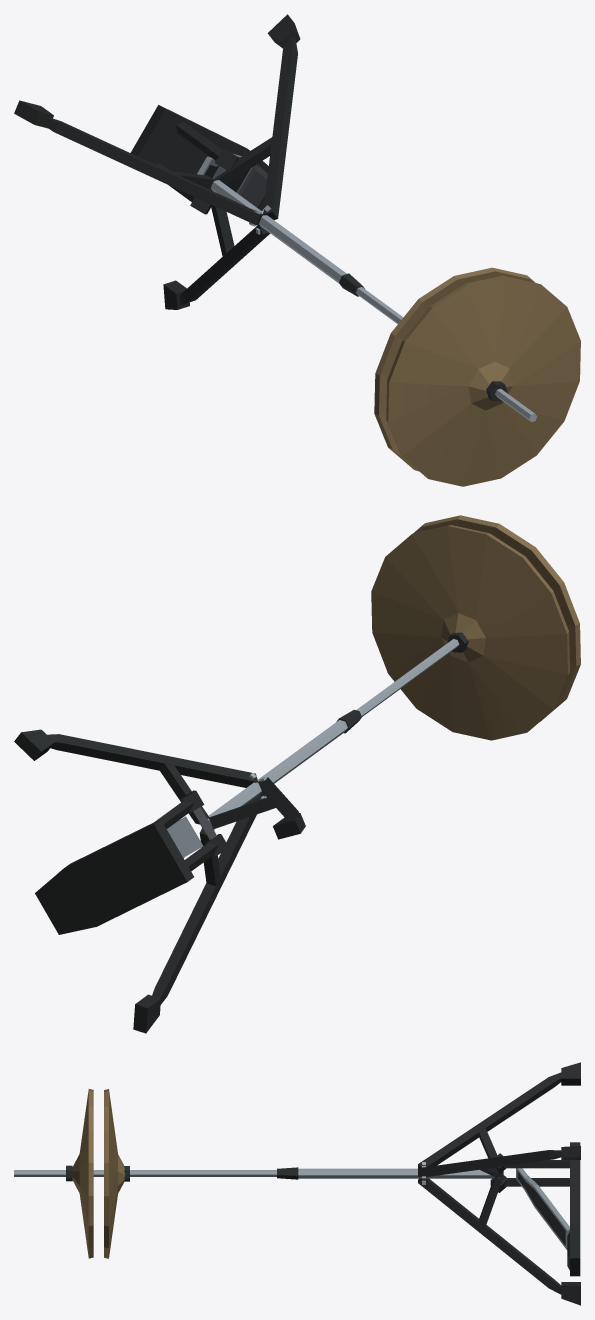
File: SM_Prop_Music_Drums_Kit_01_Seat_01_Part_01.006.obj
3 views of the same model, one above another, from view 1: azimuth 30°, elevation 25°; view 2: azimuth 150°, elevation 25°; view 3: azimuth 270°, elevation 25° (orthographic). The views are drawn at different scales.
Parts seen in each view (by area): view 1: SM_Prop_Music_Drums_Kit_01_Seat_01_Part_01.006_0; view 2: SM_Prop_Music_Drums_Kit_01_Seat_01_Part_01.006_0; view 3: SM_Prop_Music_Drums_Kit_01_Seat_01_Part_01.006_0.
Part boxes in pixels (x1=…): SM_Prop_Music_Drums_Kit_01_Seat_01_Part_01.006_0: x1=14, y1=14, x2=580, y2=486; SM_Prop_Music_Drums_Kit_01_Seat_01_Part_01.006_0: x1=14, y1=515, x2=580, y2=1033; SM_Prop_Music_Drums_Kit_01_Seat_01_Part_01.006_0: x1=14, y1=1062, x2=580, y2=1305.
Bounding box in the file's own units: 57.38 × 52.18 × 132.
Materials: 1 (1 with a texture image).
